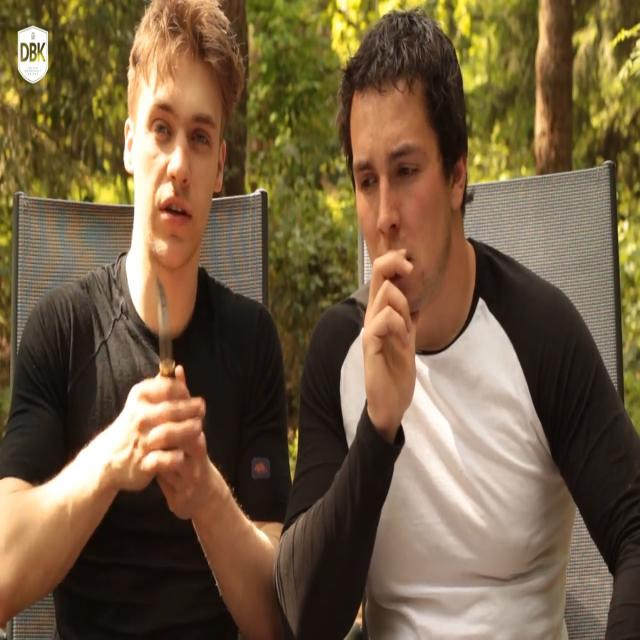knife: (155, 270, 179, 380)
